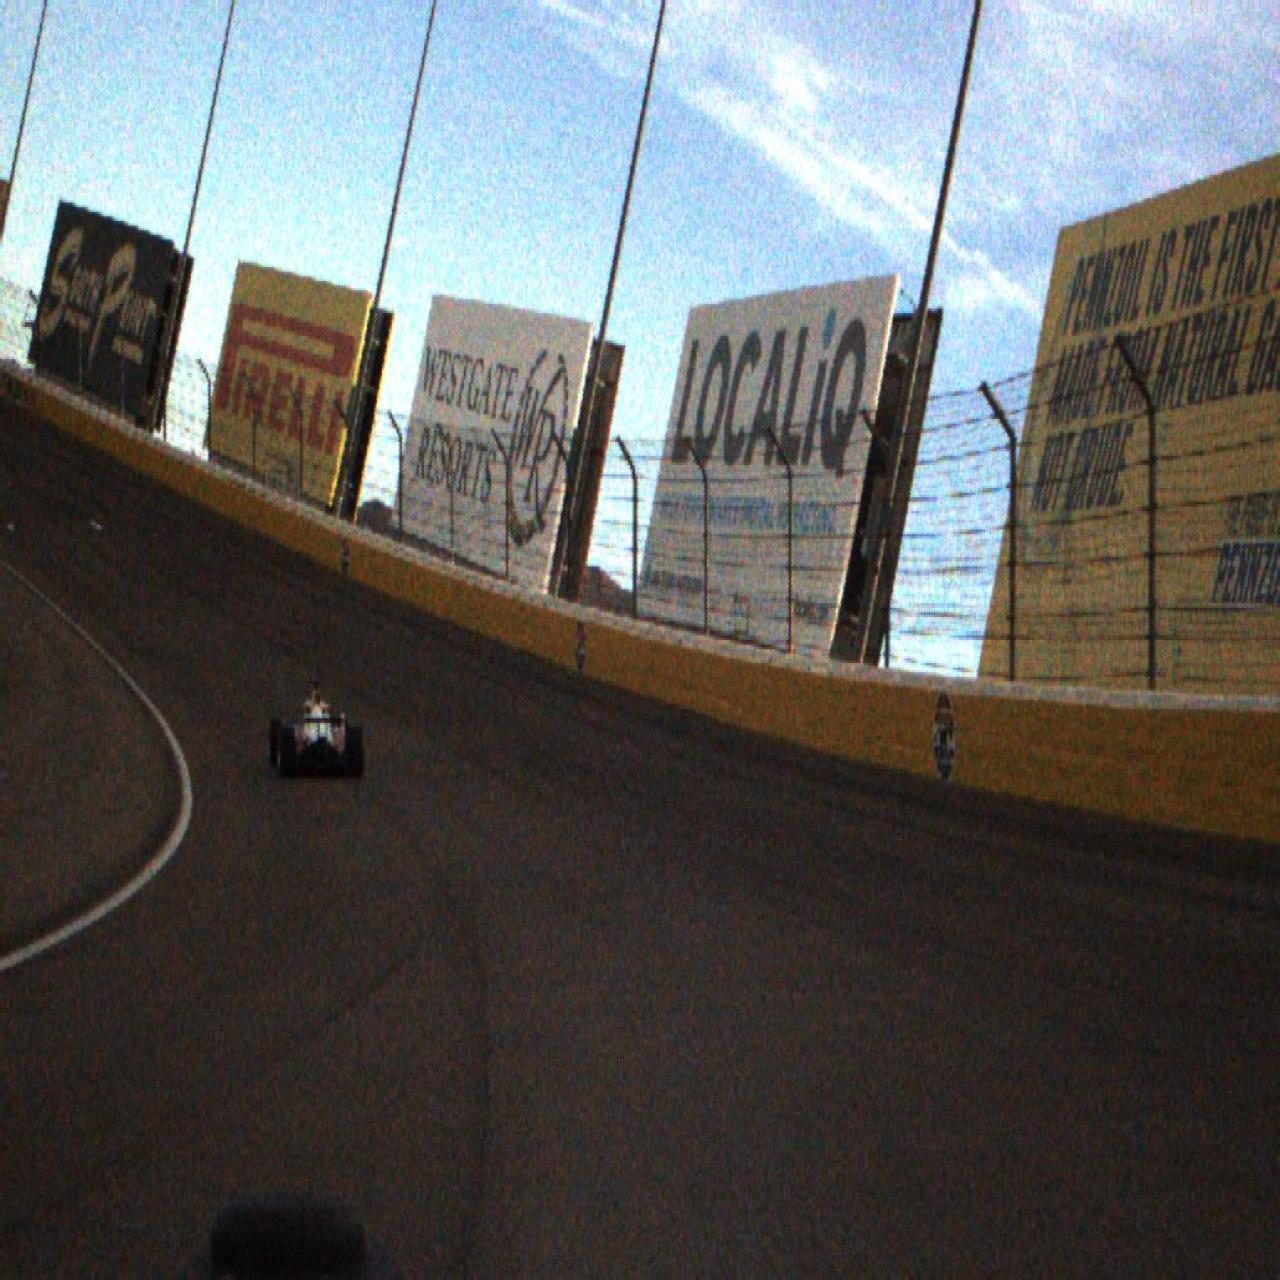AV: (268, 679, 365, 778)
Wheel: (346, 727, 363, 778), (278, 727, 294, 778), (270, 717, 282, 765)
